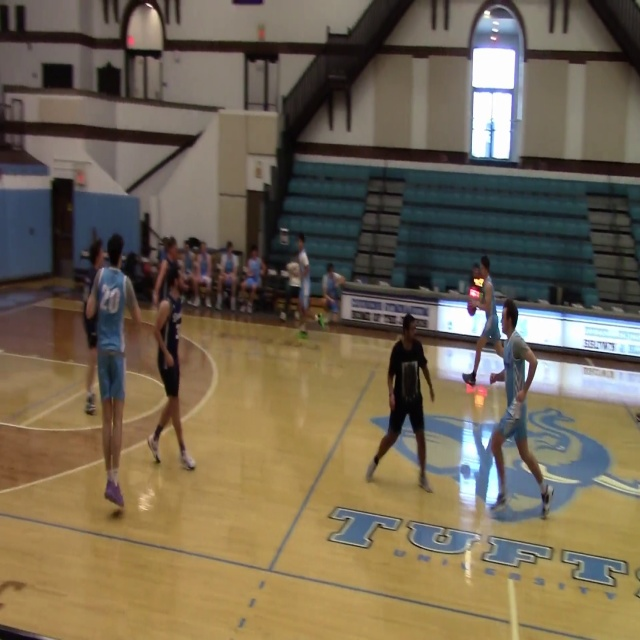Basketball: (468, 287, 480, 299), (473, 278, 484, 287)
